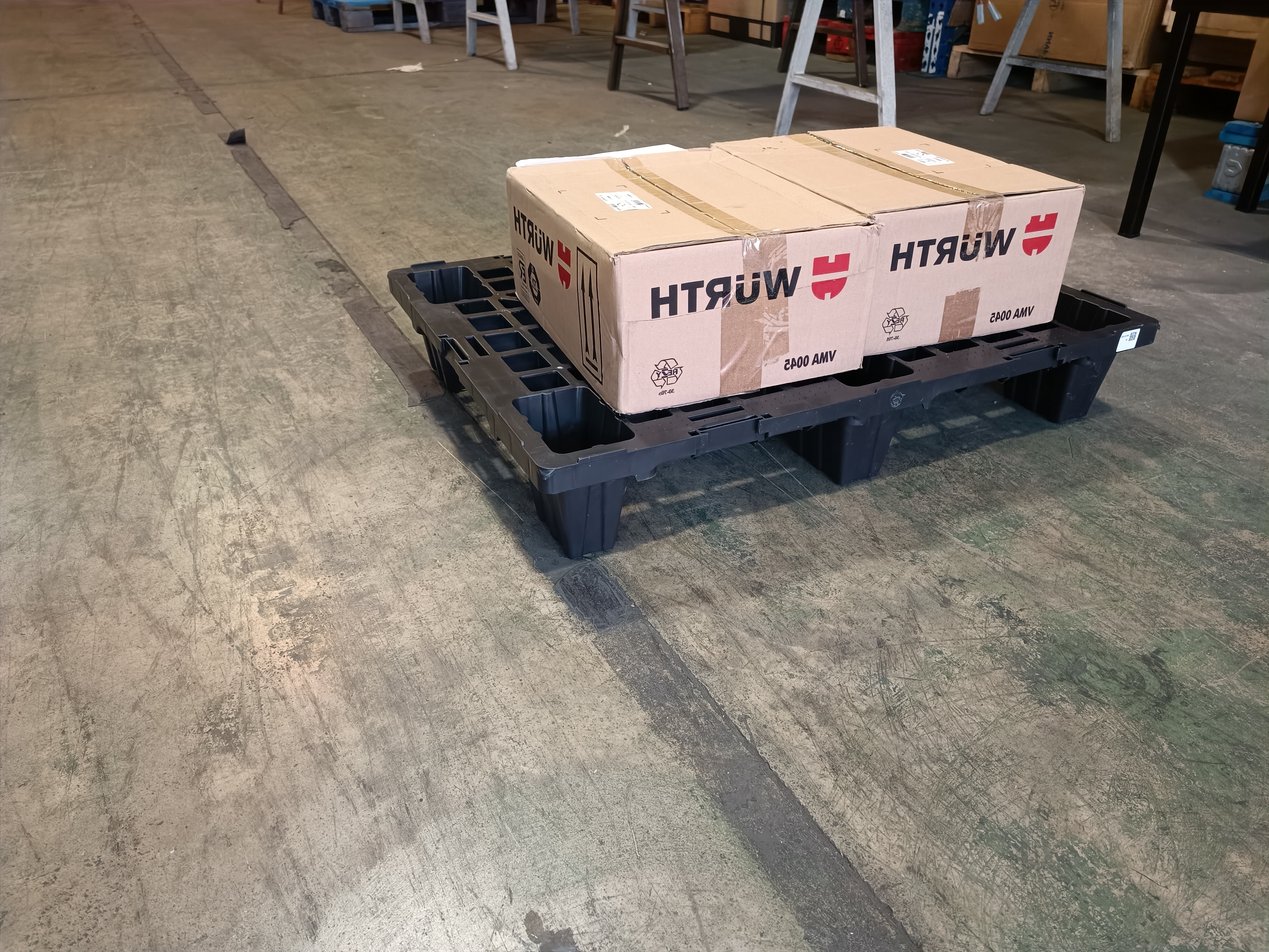block: (555, 475, 634, 560), (835, 409, 897, 489), (1056, 349, 1119, 423)
front: (546, 320, 1159, 565)
hole pallet: (610, 420, 841, 543), (890, 370, 1061, 472)
